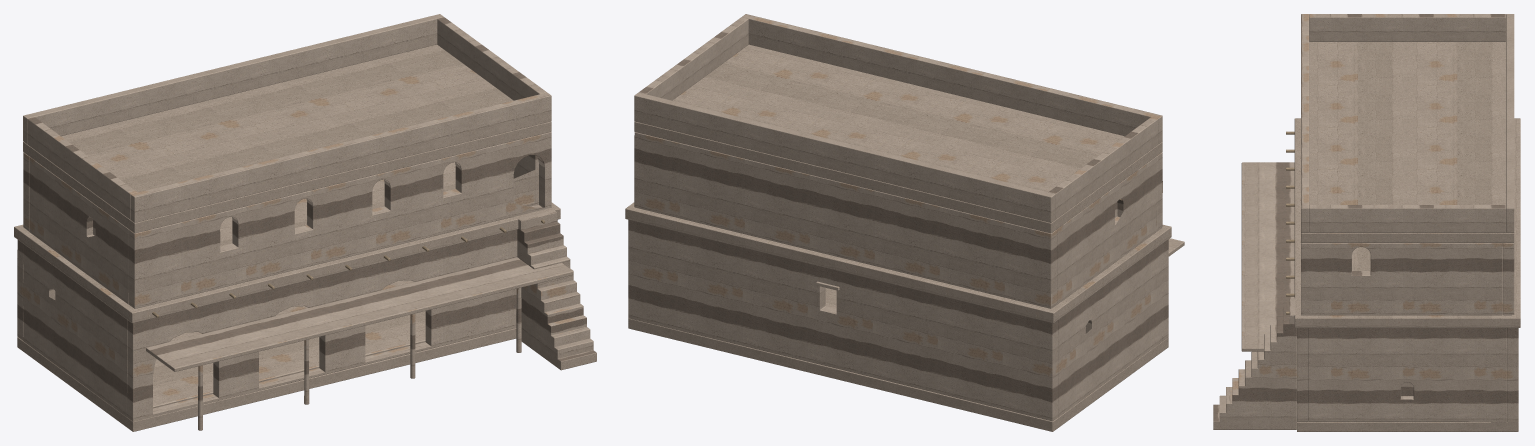
File: shops_4.glb
The picture shows the model from 3 angles, left to right: view 1: azimuth 30°, elevation 25°; view 2: azimuth 150°, elevation 25°; view 3: azimuth 270°, elevation 25°; orthographic projection. The views are drawn at different scales.
Visible parts, largest first — view 1: shops; view 2: shops; view 3: shops.
Boxes of the visible parts, x1,y1,x2,y2 form: shops: [14, 14, 596, 431]; shops: [625, 14, 1184, 431]; shops: [1213, 14, 1520, 431].
Bounding box in the file's own units: 17.16 × 8.9 × 11.16.
Materials: 3 (3 with a texture image).
